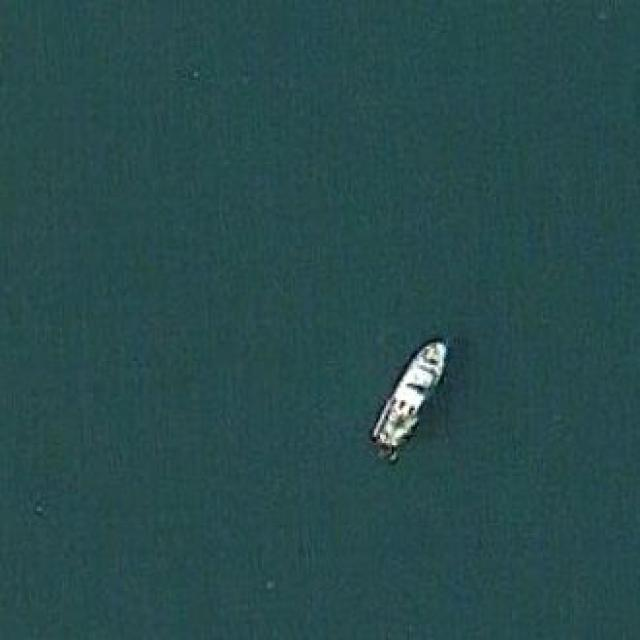ship: (368, 334, 448, 454)
